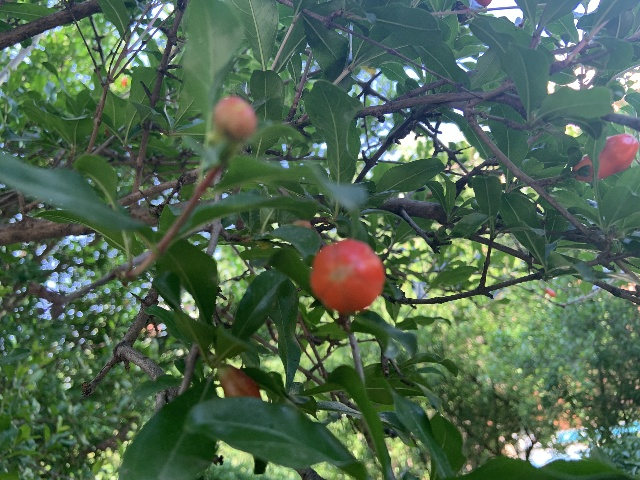bud: (310, 239, 385, 314), (573, 133, 638, 181), (212, 95, 257, 142), (218, 367, 261, 399), (474, 0, 493, 6)
